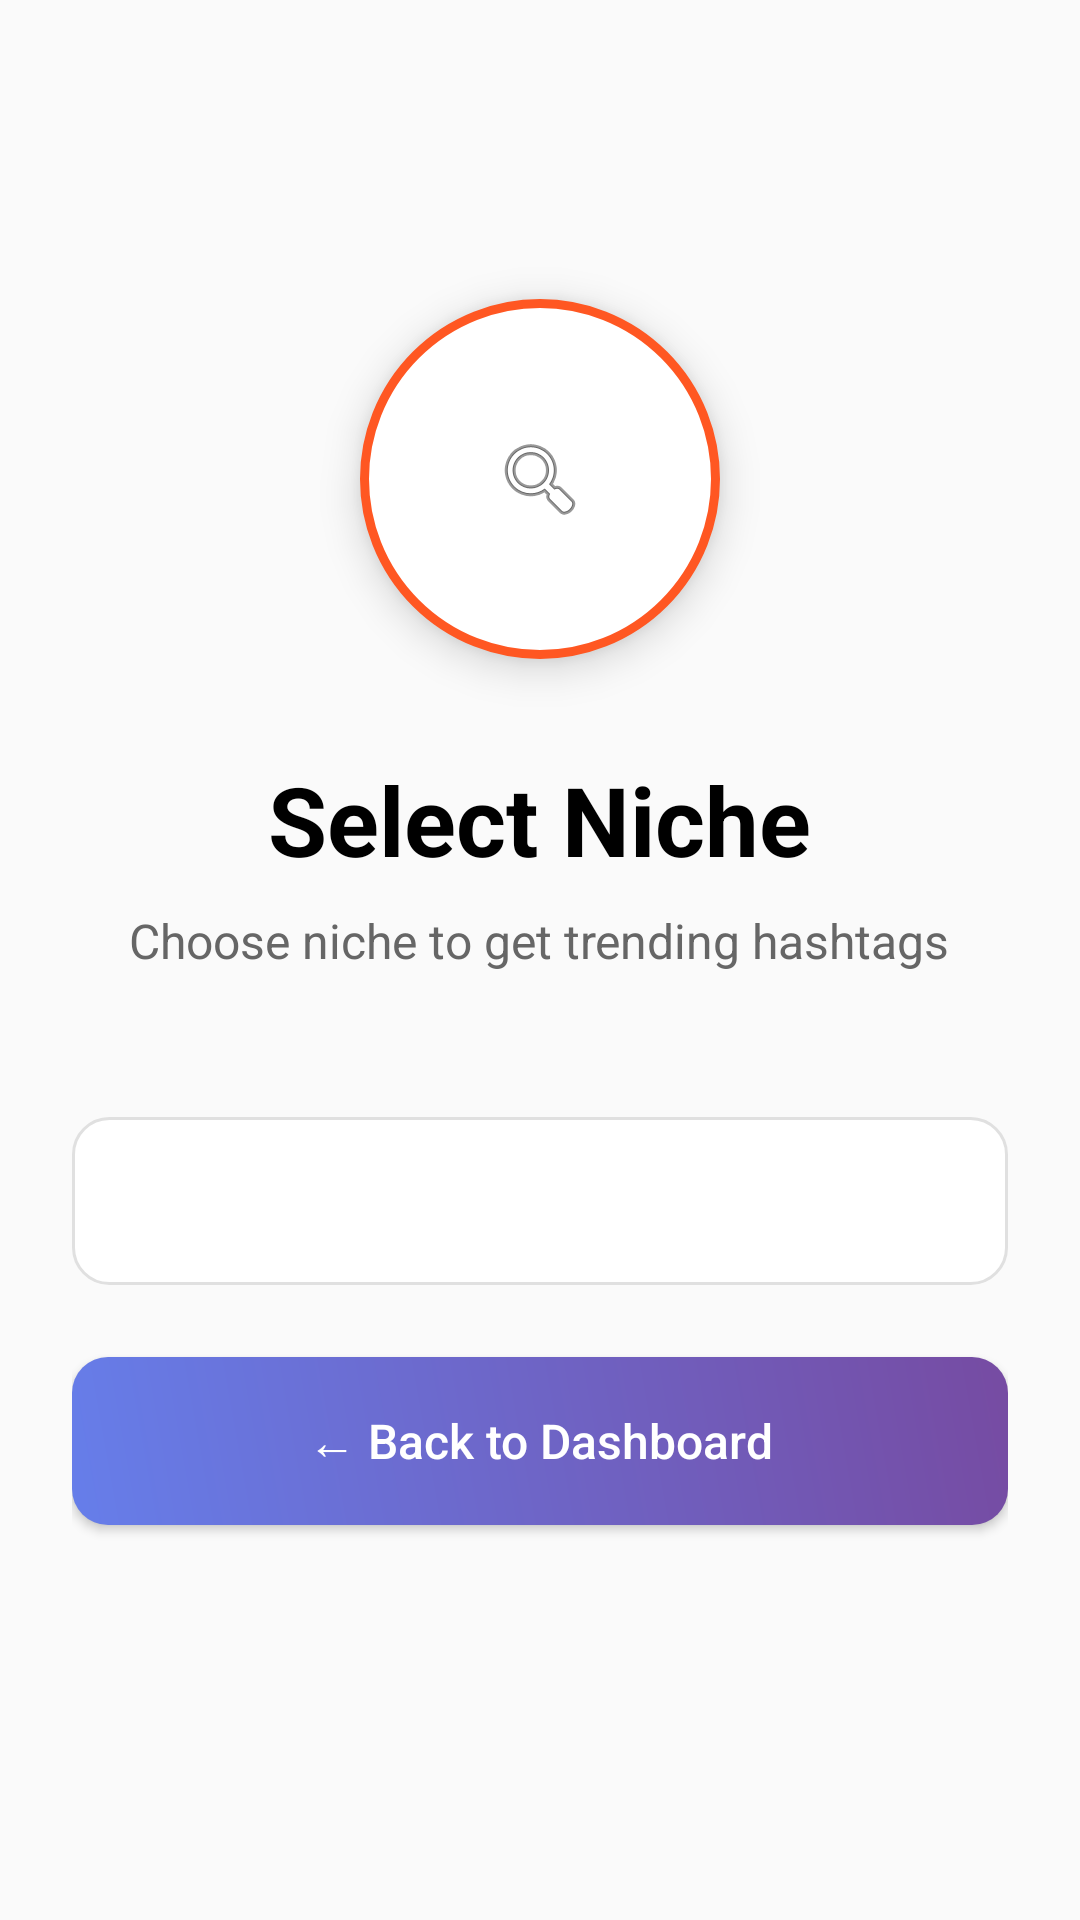

Icon click points for this 1080px×1920px phone screenshot, format point (x, y):
search: point (540, 479)
